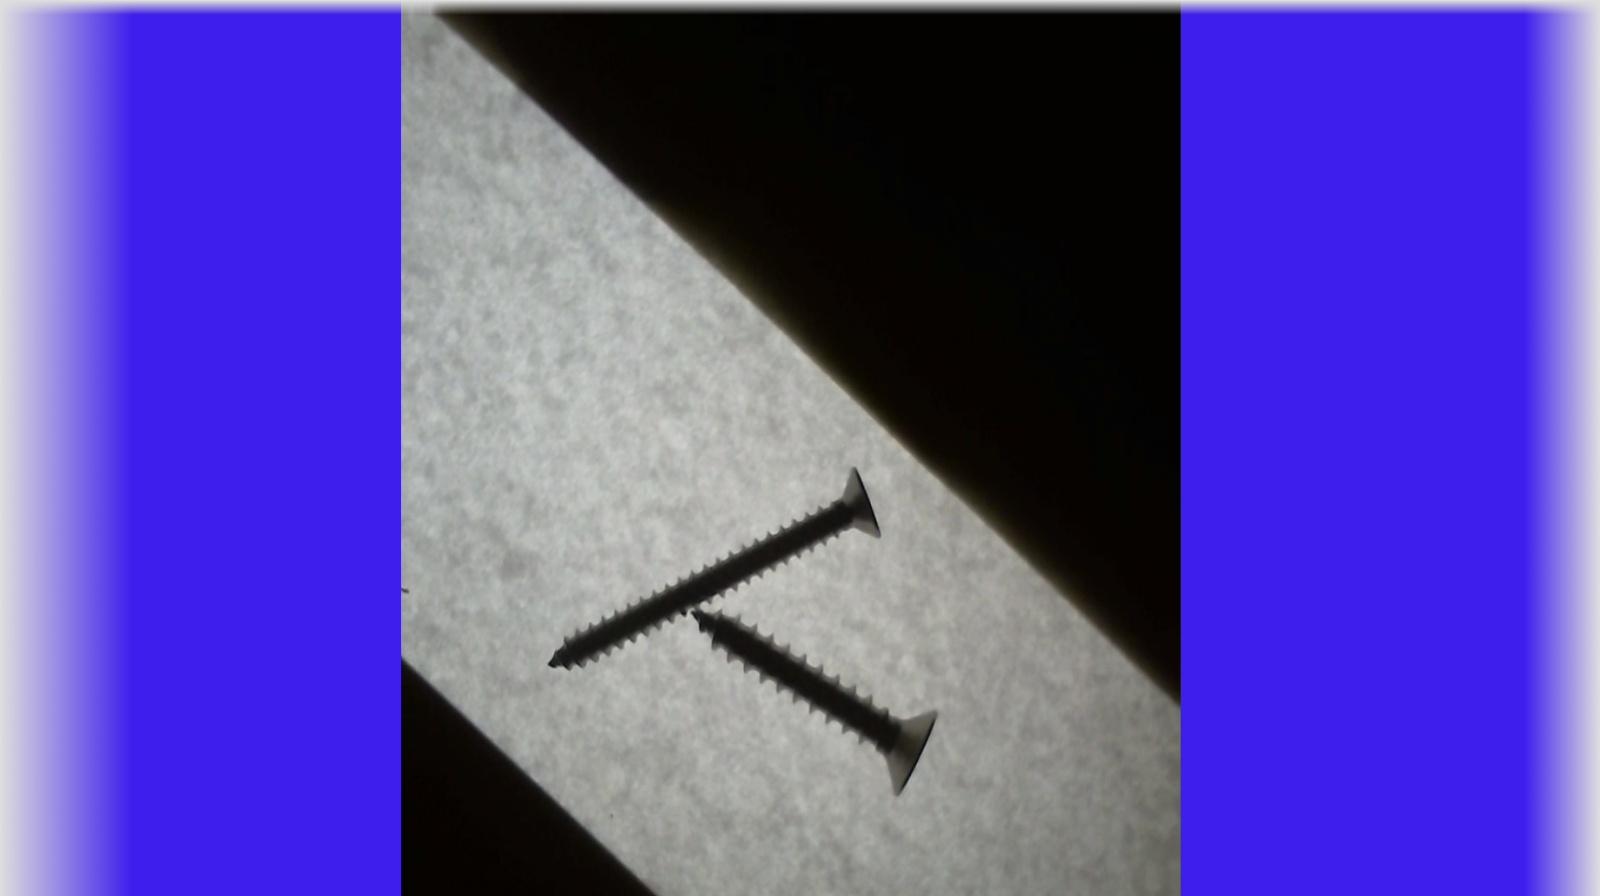S001: (686, 602, 938, 803)
S002: (546, 466, 885, 678)
